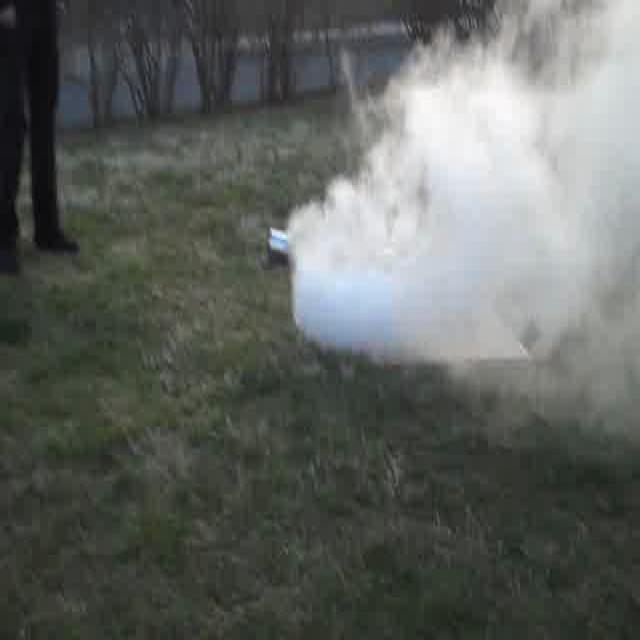Smoke: (324, 80, 622, 362)
